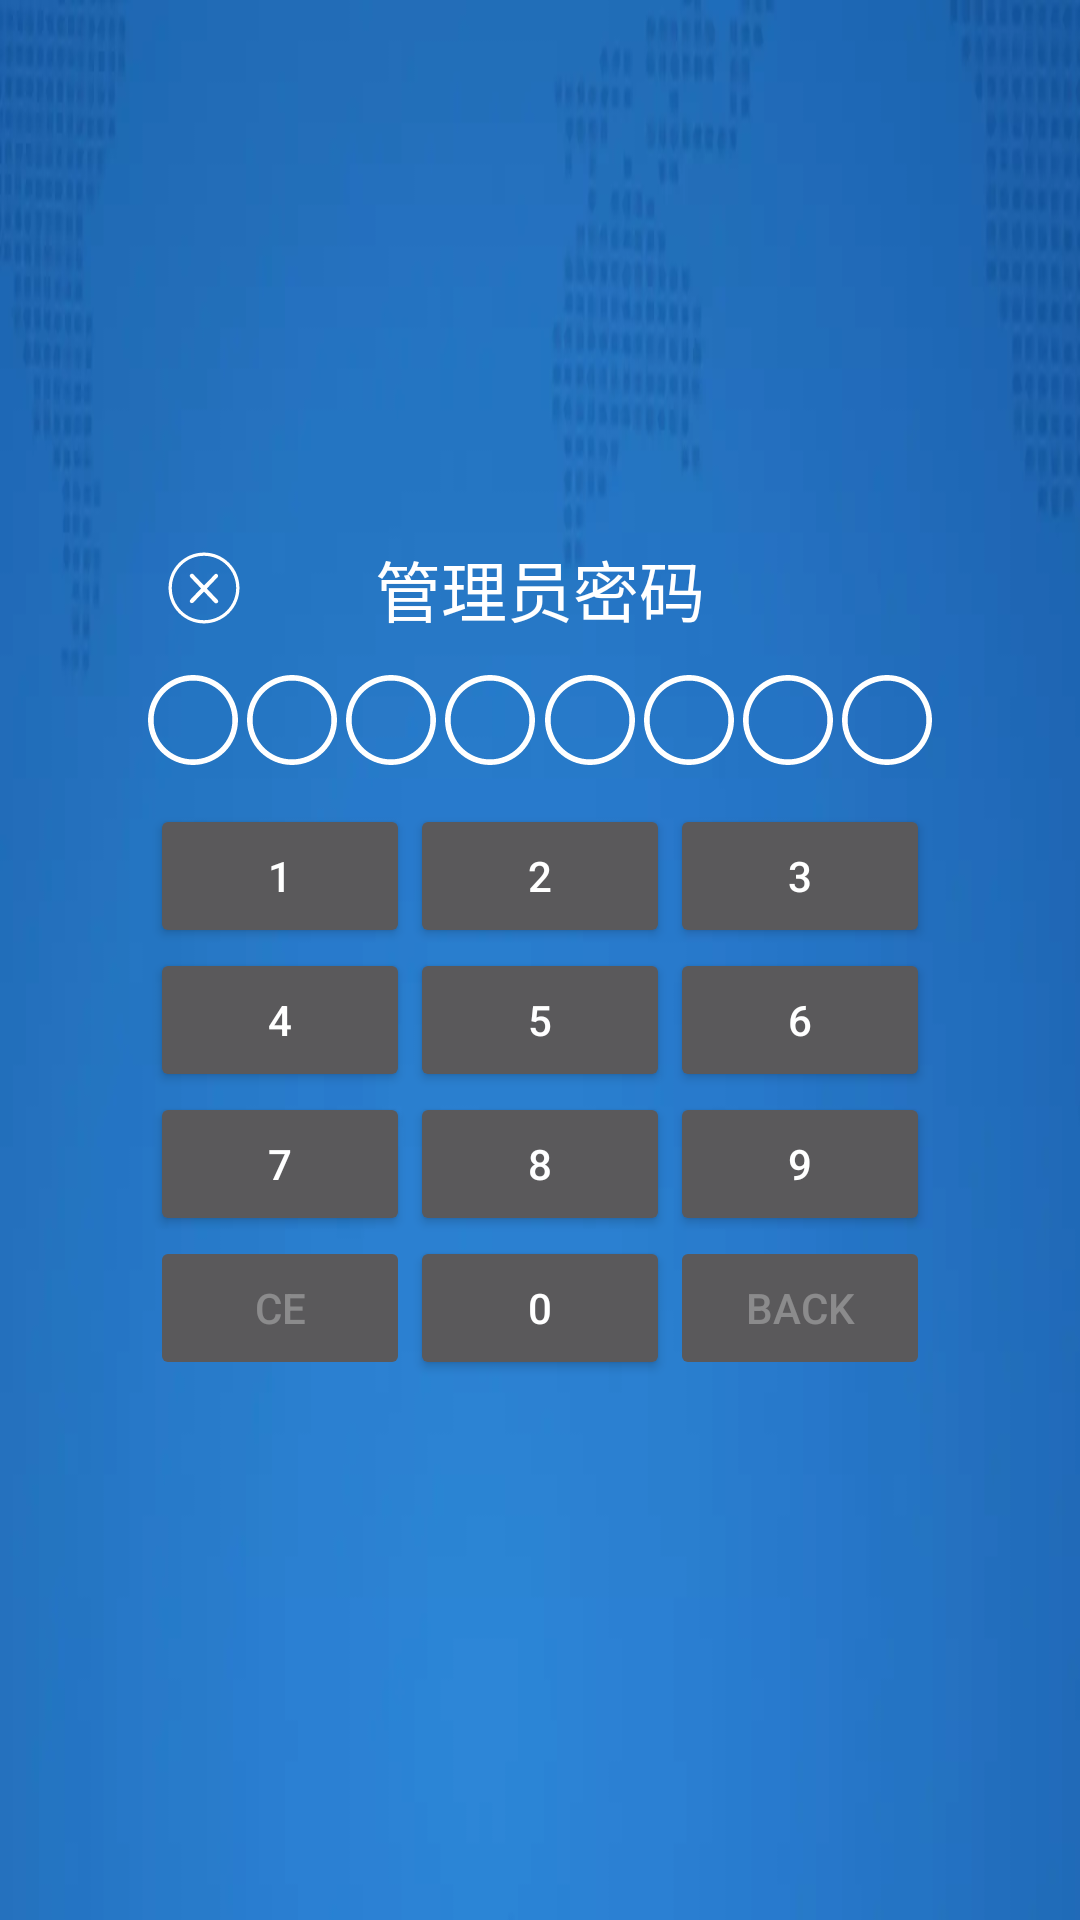

Icons on this 1080px x 1920px Android screen, each with the point to tap as (x=x, y=y):
close: (x=204, y=588)
